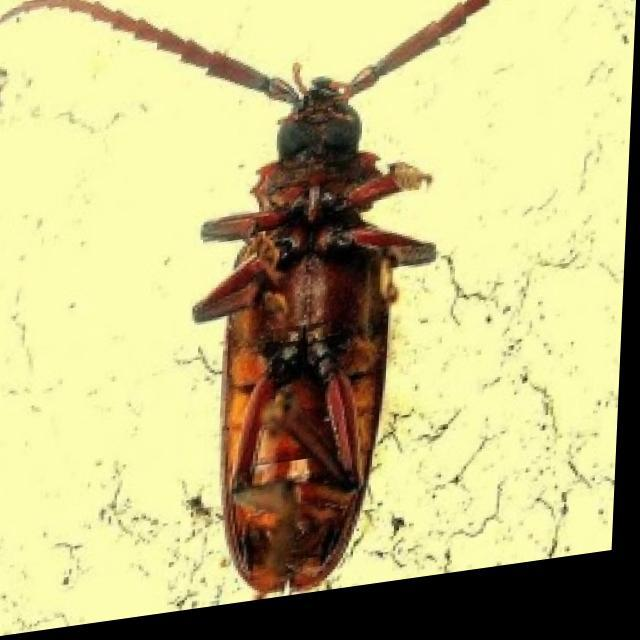cockroach: (1, 1, 507, 598)
